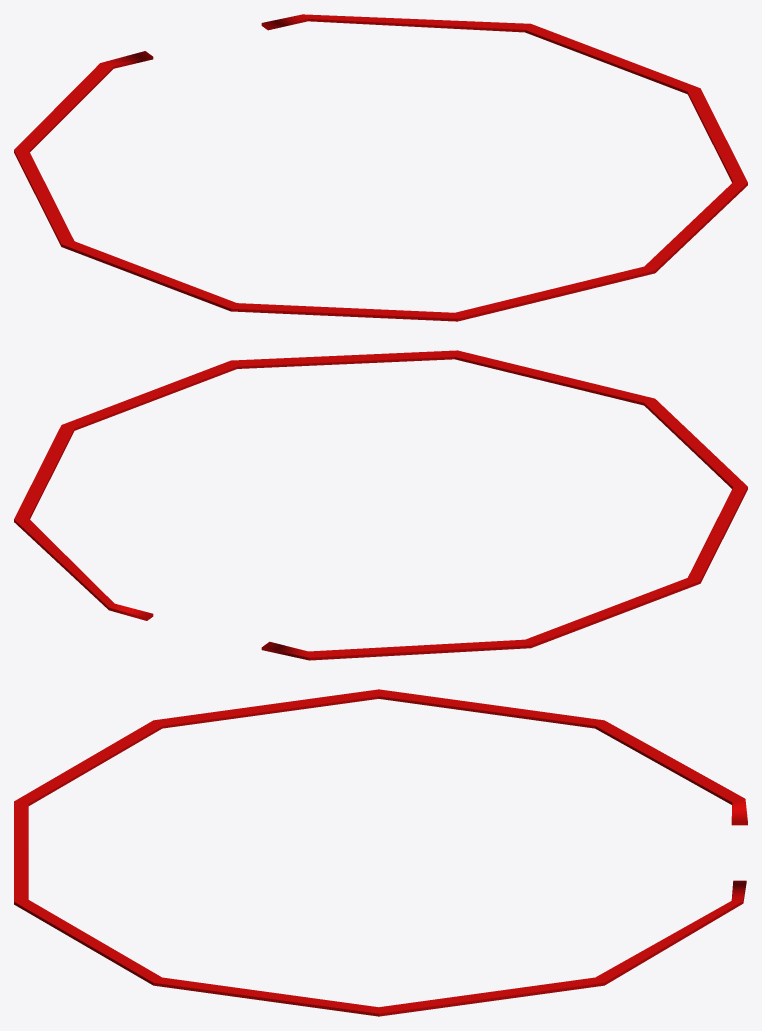
The model's file is Sobre.fbx.
The picture shows the model from 3 angles, top to bottom: view 1: azimuth 30°, elevation 25°; view 2: azimuth 150°, elevation 25°; view 3: azimuth 270°, elevation 25°; orthographic projection. The views are drawn at different scales.
Parts seen in each view (by area): view 1: Sobre; view 2: Sobre; view 3: Sobre.
Part boxes in pixels (x1=…): Sobre: x1=14, y1=14, x2=747, y2=321; Sobre: x1=14, y1=350, x2=747, y2=660; Sobre: x1=14, y1=689, x2=747, y2=1016.
Bounding box in the file's own units: 1687 × 7.7 × 1614.
